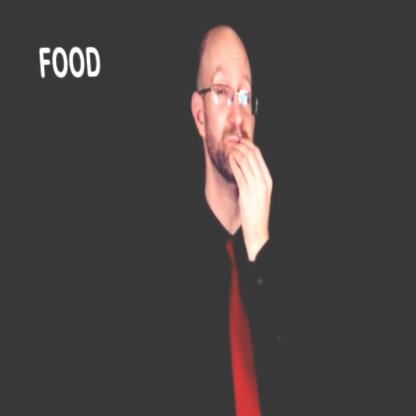Food: (159, 12, 303, 416)
